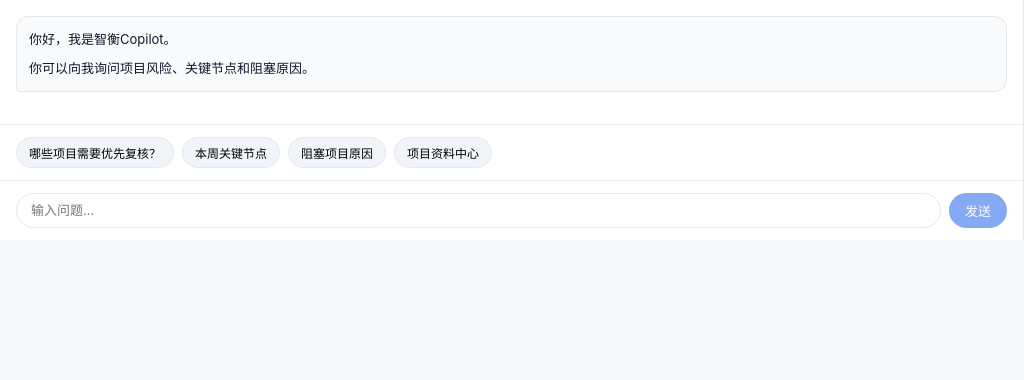
Test case: 核心组件 › ChatArea 初始失败显示兜底，发送失败显示 ApiError
Expected: the text "你好，我是智衡Copilot。" is shown, [29,31,177,47]
In the field with placeholder "输入问题...": (478, 210) [16,193,941,228], type "问题"
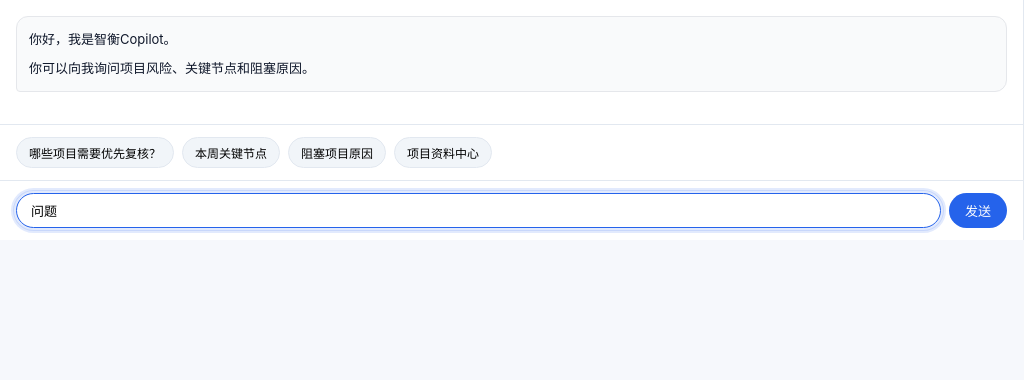
Press Enter in the field with placeholder "输入问题...", box [16,193,941,228]
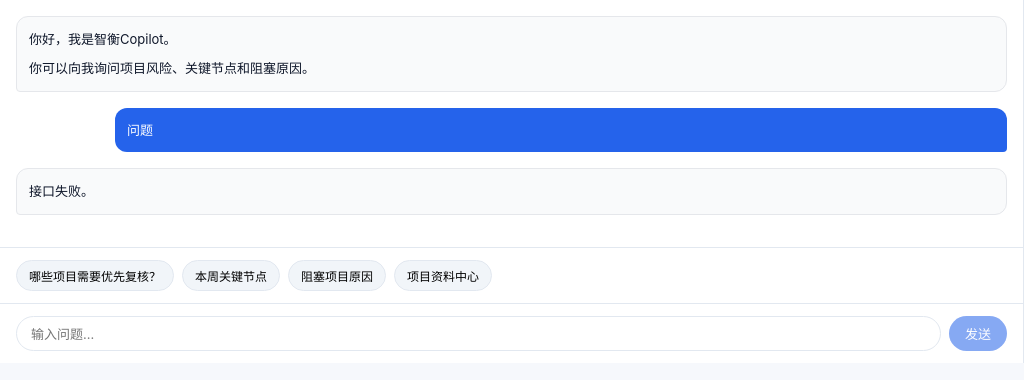
Expected: the text "接口失败。" is shown, [29,183,94,199]
